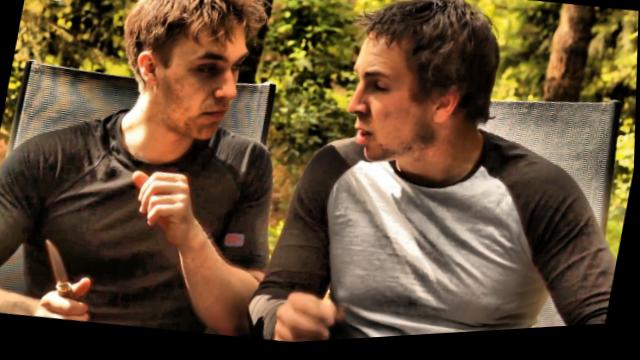knife: (24, 229, 105, 326)
